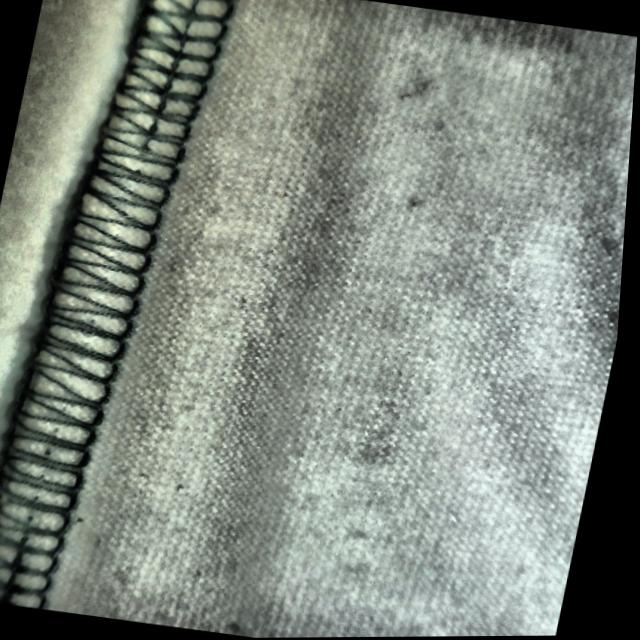Stitch: (35, 0, 244, 362)
